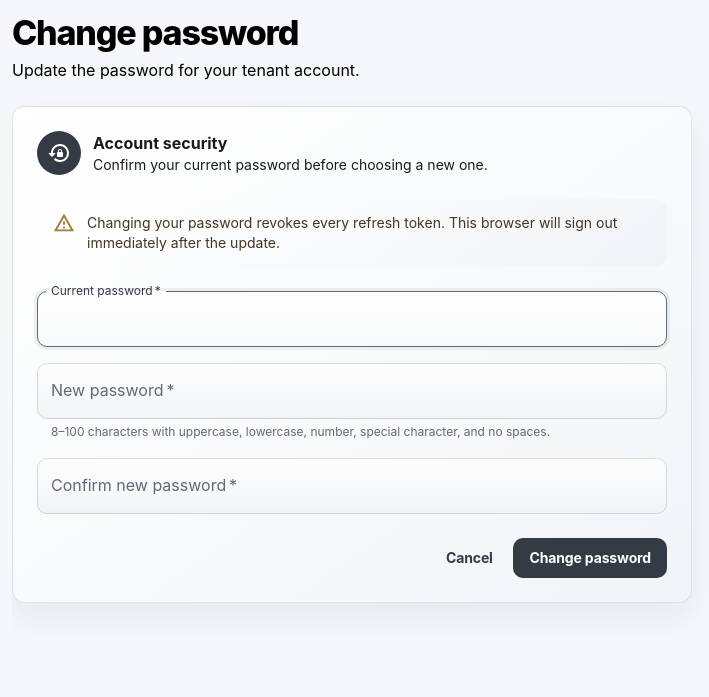
it: TenantChangePasswordPage › shows the backend error when the current password is incorrect
Step 1. Type "Current@123" into the password field labelled "Current password *" → (352, 319), box [37,291,667,347]
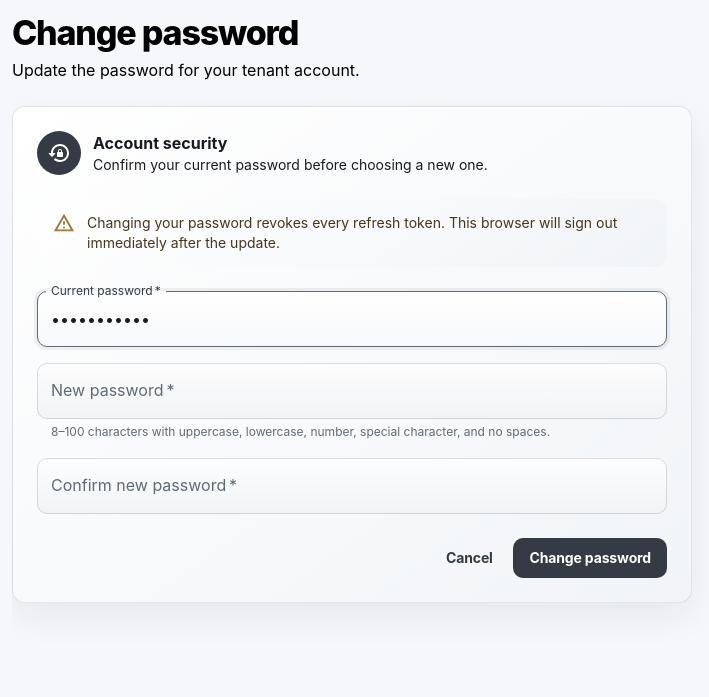
Step 2. Type "Stronger@456" into the password field labelled "New password *" → (352, 391), box [37,363,667,419]
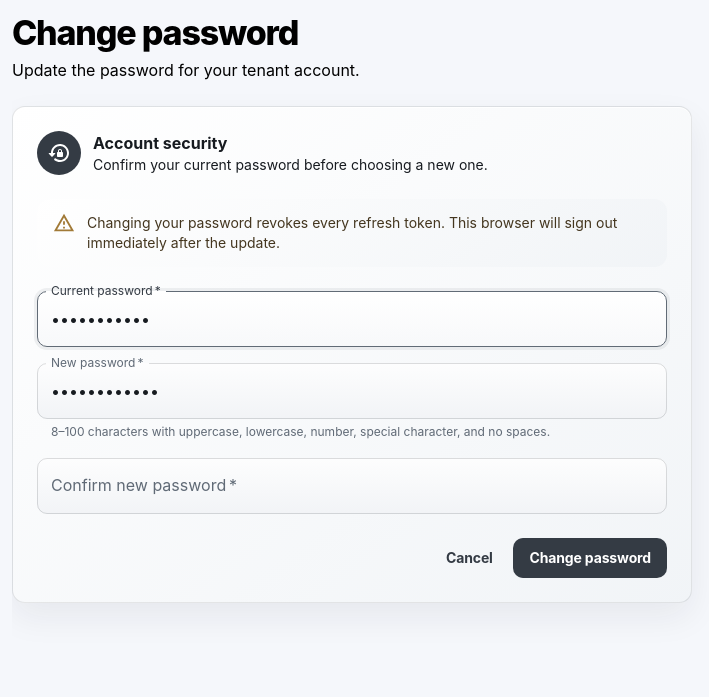
Step 3. Type "Stronger@456" into the password field labelled "Confirm new password *" → (352, 486), box [37,458,667,514]
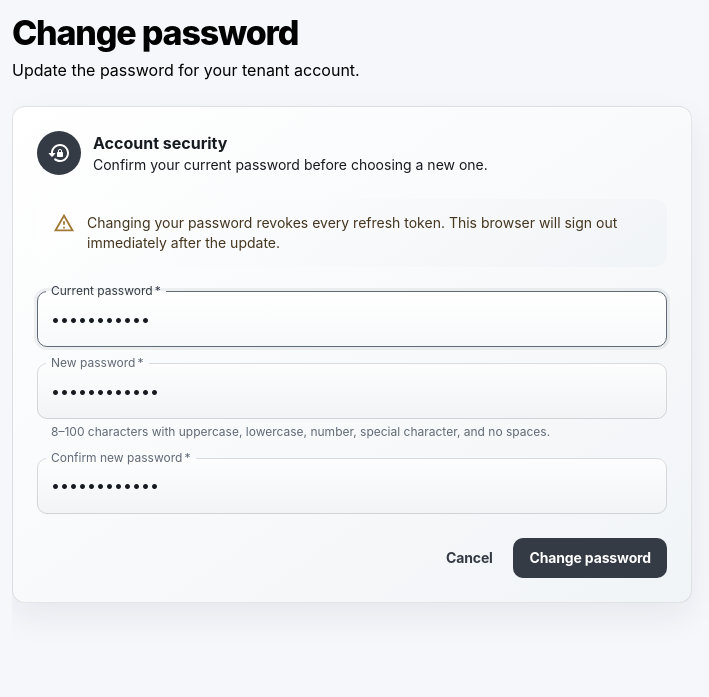
Step 4. Click the button "Change password" → (590, 558), box [513,538,667,578]
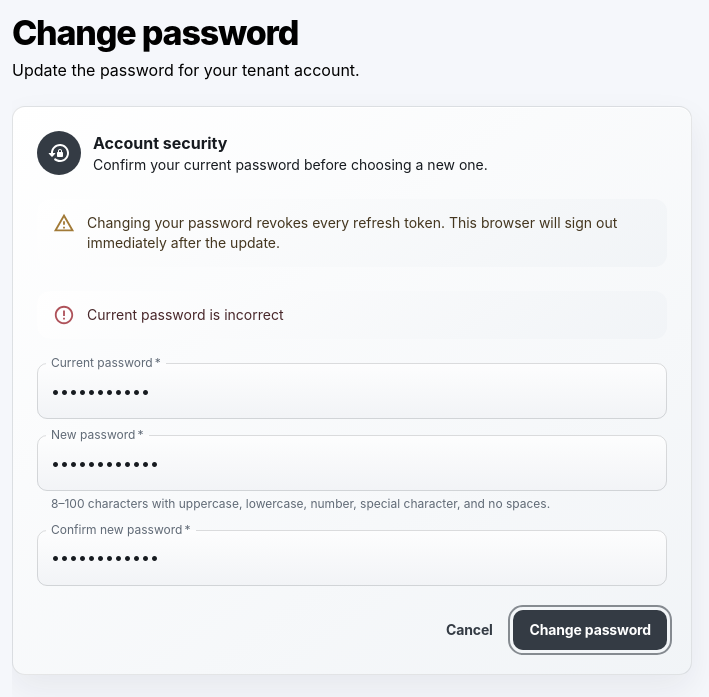
Expected: the text "Current password is incorrect" is shown, [87,306,284,323]
